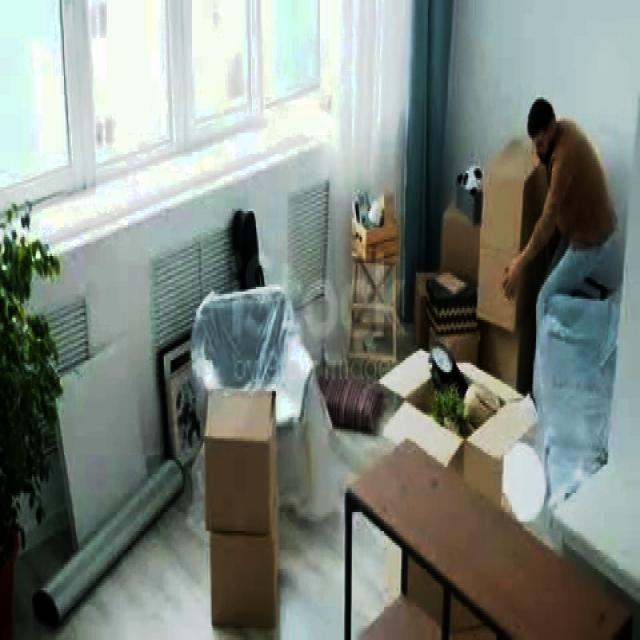Box: (202, 386, 274, 524), (214, 534, 278, 616)
